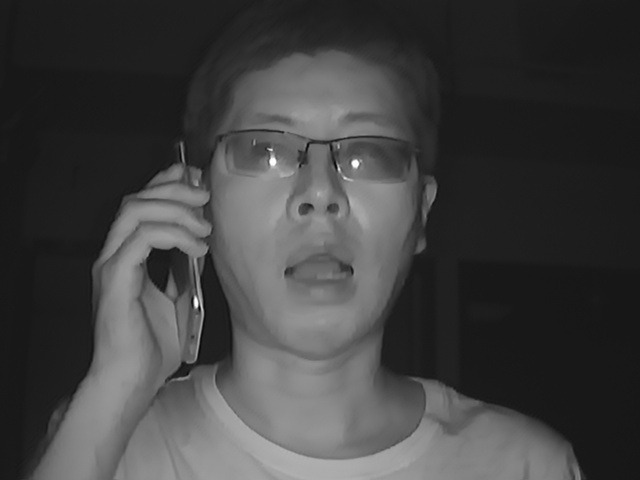hand: (75, 163, 212, 368)
